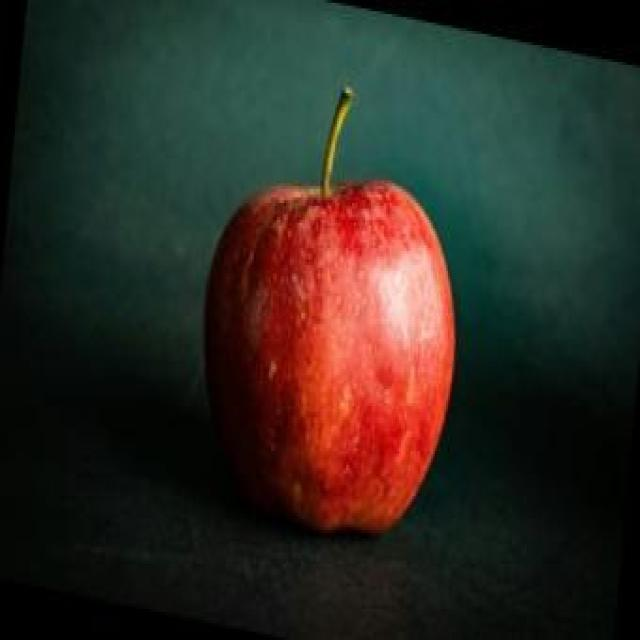apple: (202, 178, 456, 536)
